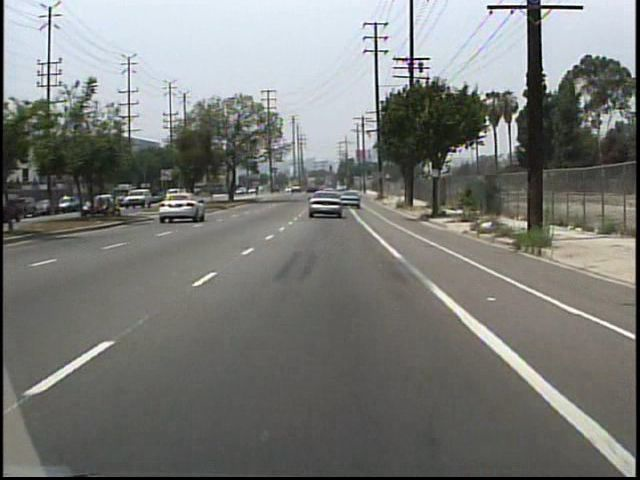person: (62, 193, 72, 215)
